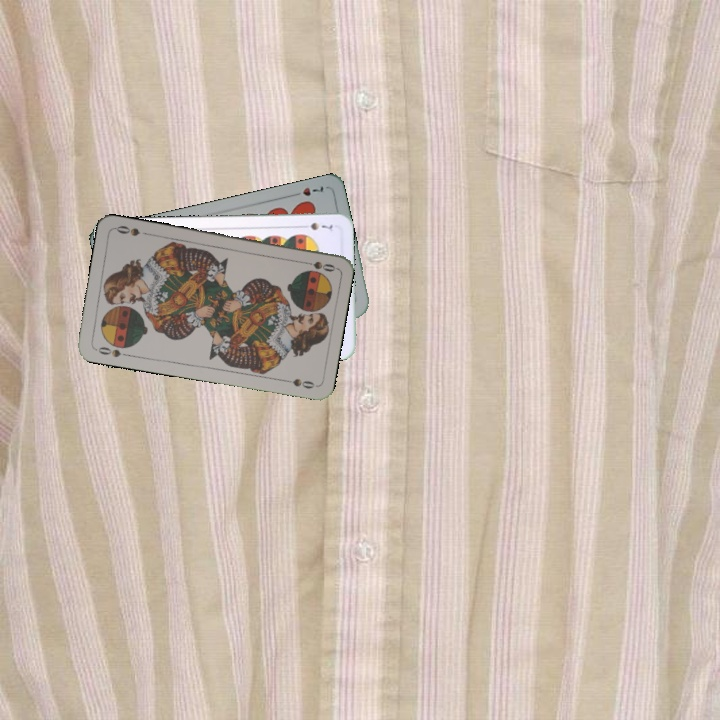H7: (288, 182, 326, 199)
S7: (297, 218, 335, 233)
SO: (297, 257, 338, 274), (91, 343, 132, 360)
